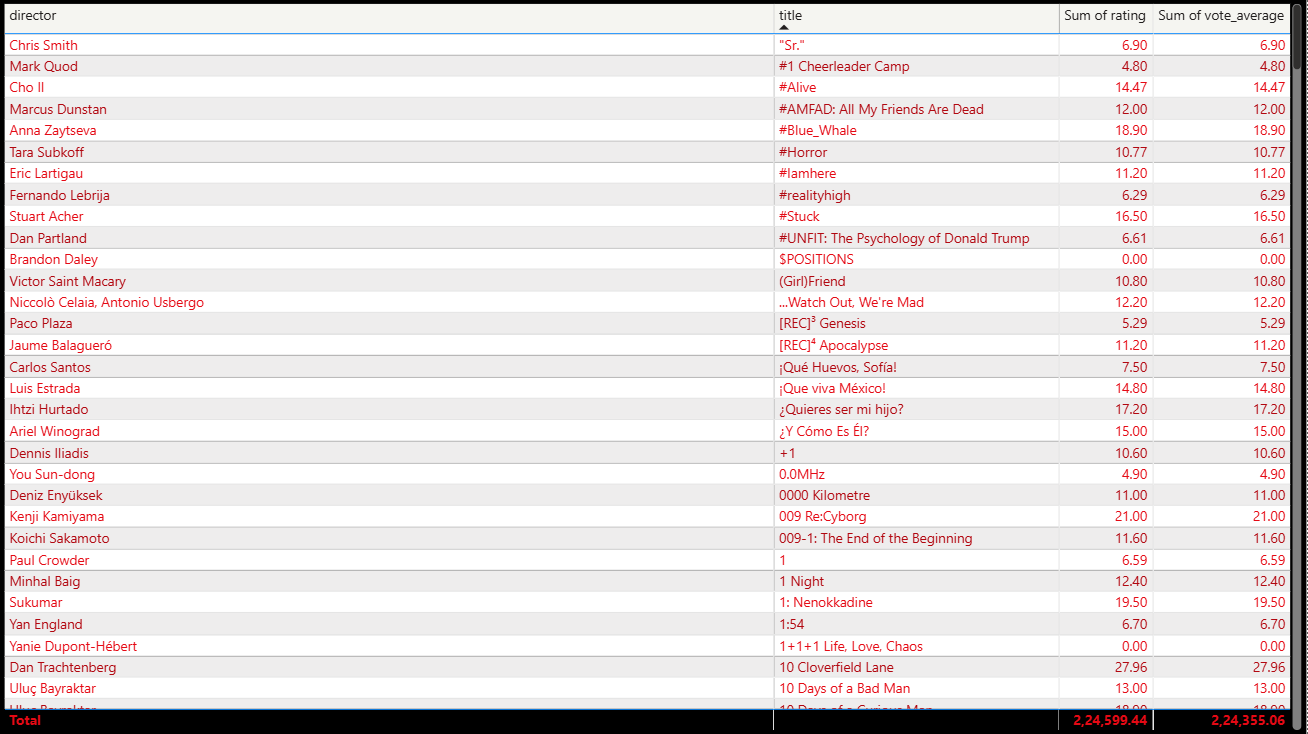

What the dashboard file says about the page in this screenshot:
{"tool":"powerbi","page":{"name":"Page 2","canvas":[1280,720],"ordinal":1},"visuals":[{"type":"tableEx","fields":{"Values":["netflix_movies_detailed_up_to_2025.director","netflix_movies_detailed_up_to_2025.title","netflix_movies_detailed_up_to_2025.rating","netflix_movies_detailed_up_to_2025.vote_average"]},"box":[0,0,1280.3,720.2],"z":0}]}

Visuals, with their boxes in screenshot pixels (x1, y1, x2, y2), scaled from the page's 1280x720 canvas onto the 1308x734 screenshot:
tableEx - netflix_movies_detailed_up_to_2025.director x netflix_movies_detailed_up_to_2025.title: {"left": 0, "top": 0, "right": 1307, "bottom": 733}
